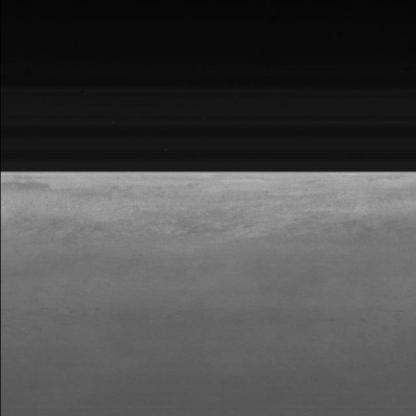silk_spot: (85, 209, 364, 245)
